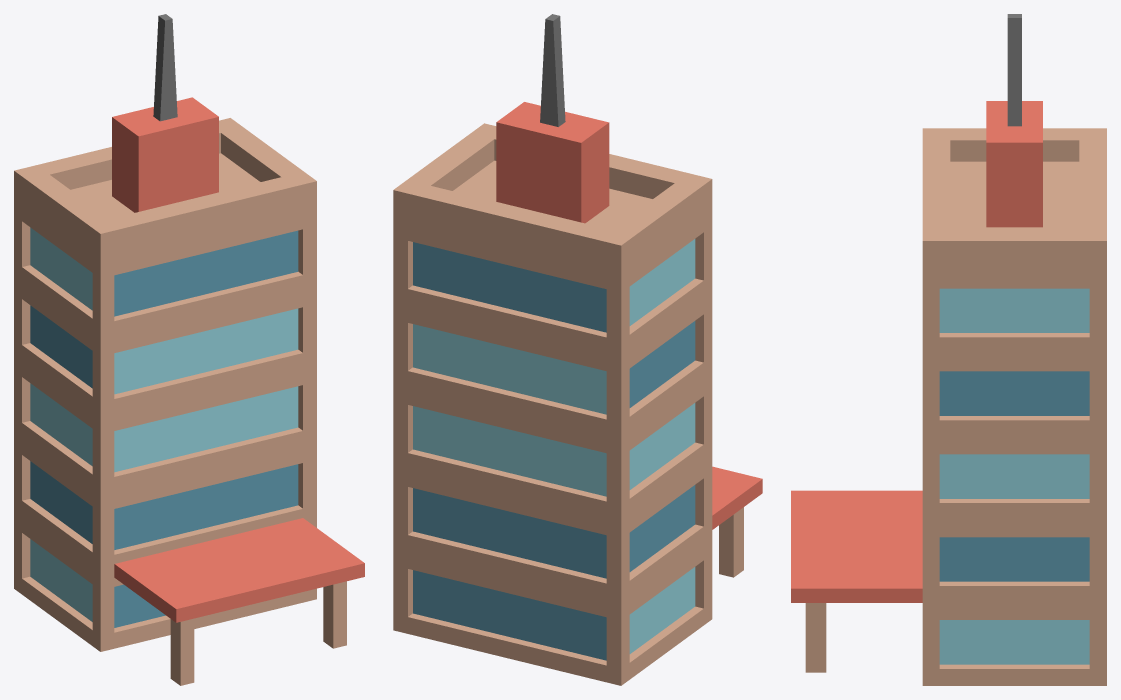
File: BigHouse 2.1.fbx
The picture shows the model from 3 angles, left to right: view 1: azimuth 30°, elevation 25°; view 2: azimuth 150°, elevation 25°; view 3: azimuth 270°, elevation 25°; orthographic projection. The views are drawn at different scales.
Visible parts, largest first — view 1: BigHouse_Type2_1; view 2: BigHouse_Type2_1; view 3: BigHouse_Type2_1.
Boxes of the visible parts, x1=… form: BigHouse_Type2_1: x1=14, y1=14, x2=364, y2=685; BigHouse_Type2_1: x1=393, y1=14, x2=762, y2=685; BigHouse_Type2_1: x1=791, y1=14, x2=1106, y2=685.
Bounding box in the file's own units: 572 × 1456 × 679.
